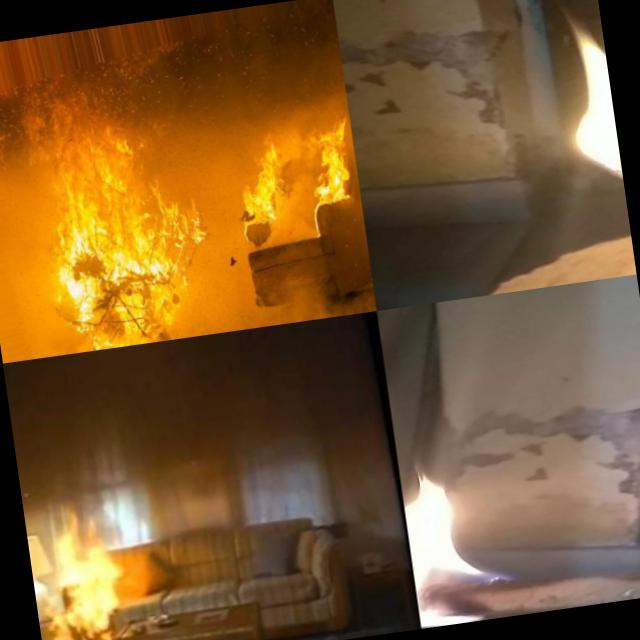fire: (38, 120, 206, 354), (398, 449, 546, 629), (556, 0, 629, 230), (28, 508, 129, 640), (233, 130, 292, 222), (303, 114, 352, 216)
